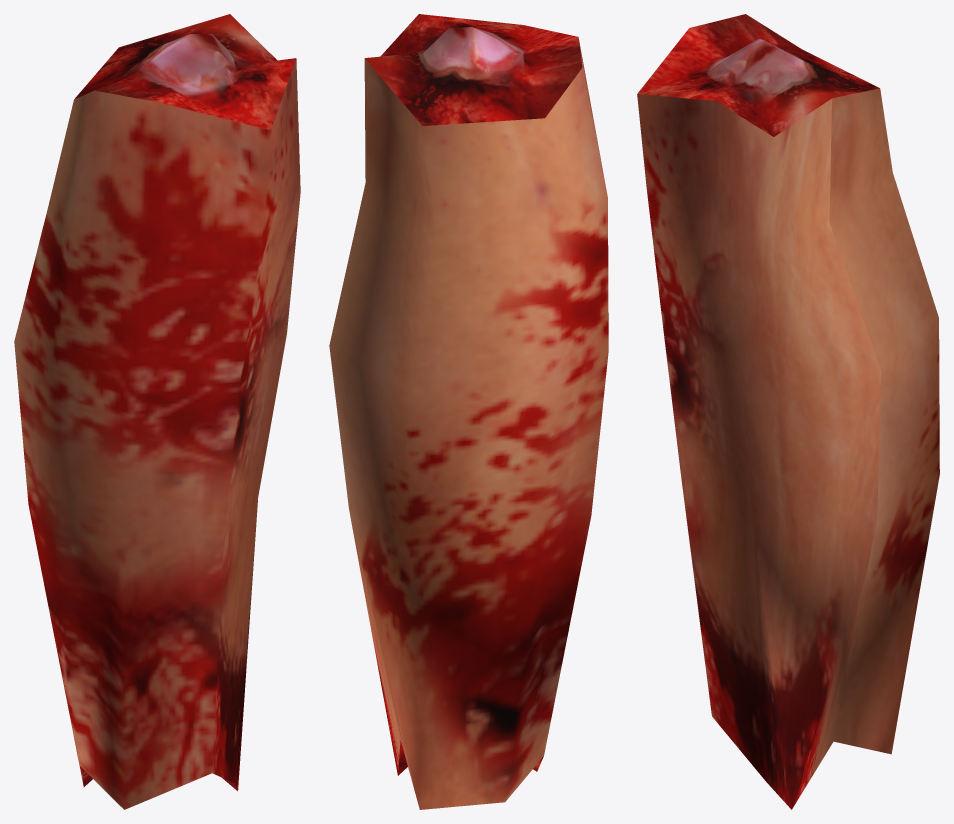
Rendered from male_rt_lowleg.fbx.
3 renders of one model, left to right at view 1: azimuth 30°, elevation 25°; view 2: azimuth 150°, elevation 25°; view 3: azimuth 270°, elevation 25°, orthographic. The views are drawn at different scales.
Visible parts, largest first — view 1: rt_lowleg_gib; view 2: rt_lowleg_gib; view 3: rt_lowleg_gib.
Part boxes in pixels (x1=…): rt_lowleg_gib: x1=14, y1=14, x2=300, y2=809; rt_lowleg_gib: x1=329, y1=14, x2=608, y2=809; rt_lowleg_gib: x1=637, y1=14, x2=939, y2=809.
Size of the model in its own units: 0.1523 by 0.4745 by 0.1757.
